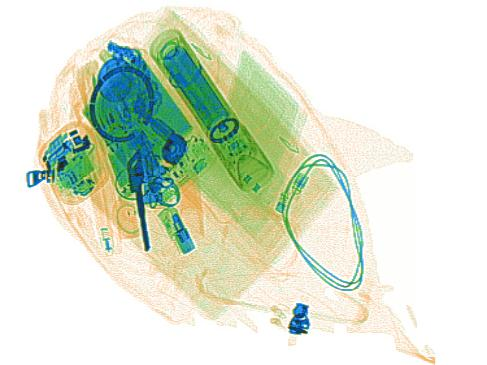battery: (162, 44, 227, 130)
